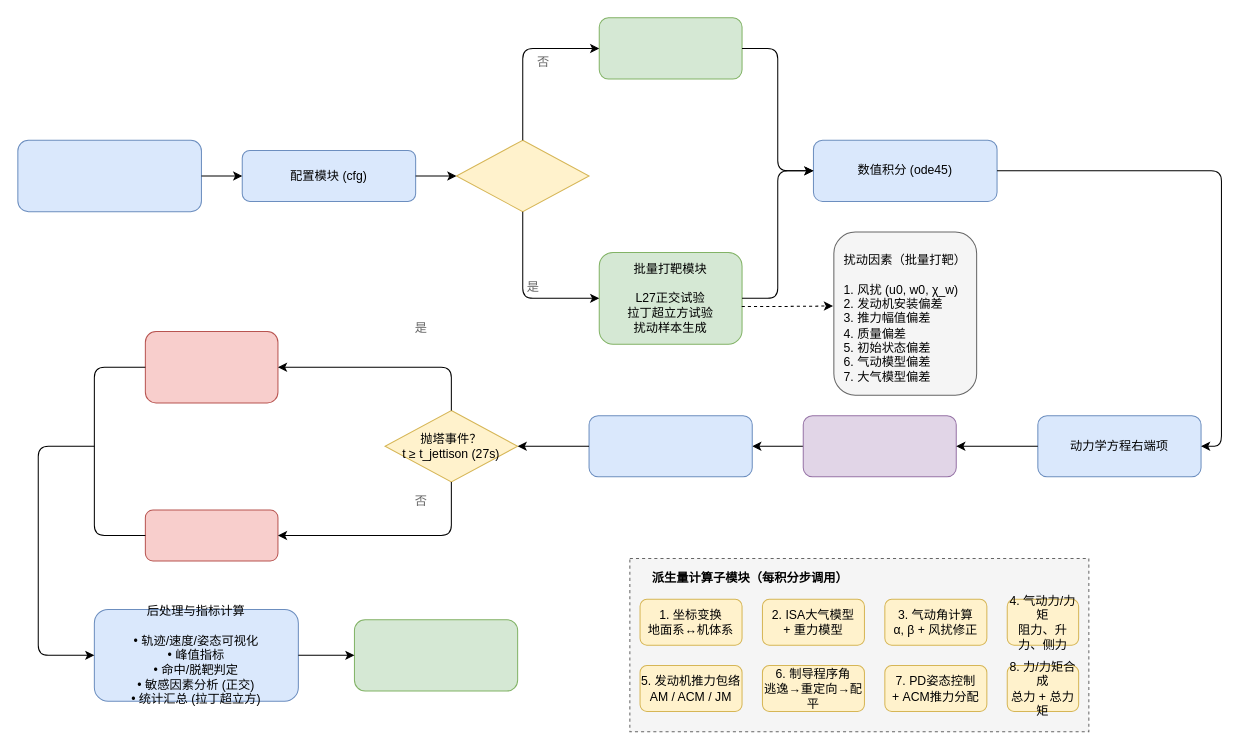
This 1247x750 diagram has some shape labels left out. Each missing label, with the centre of its shape:
仿真程序入口: the point at 109,175
单次仿真模块: the point at 670,48
批量打靶？: the point at 522,175
抛塔状态突变 • 质量 → 乘员舱质量 • 角速度置零 • 姿态冻结: the point at 211,366
派生量计算: the point at 879,446
状态更新 [位置, 速度, 欧拉角, 角速度, 质量]: the point at 670,446
继续积分: the point at 211,535
输出结果 • 数据文件 (.mat, .csv) • 图表 (.png, .svg) • 统计报告: the point at 435,655
